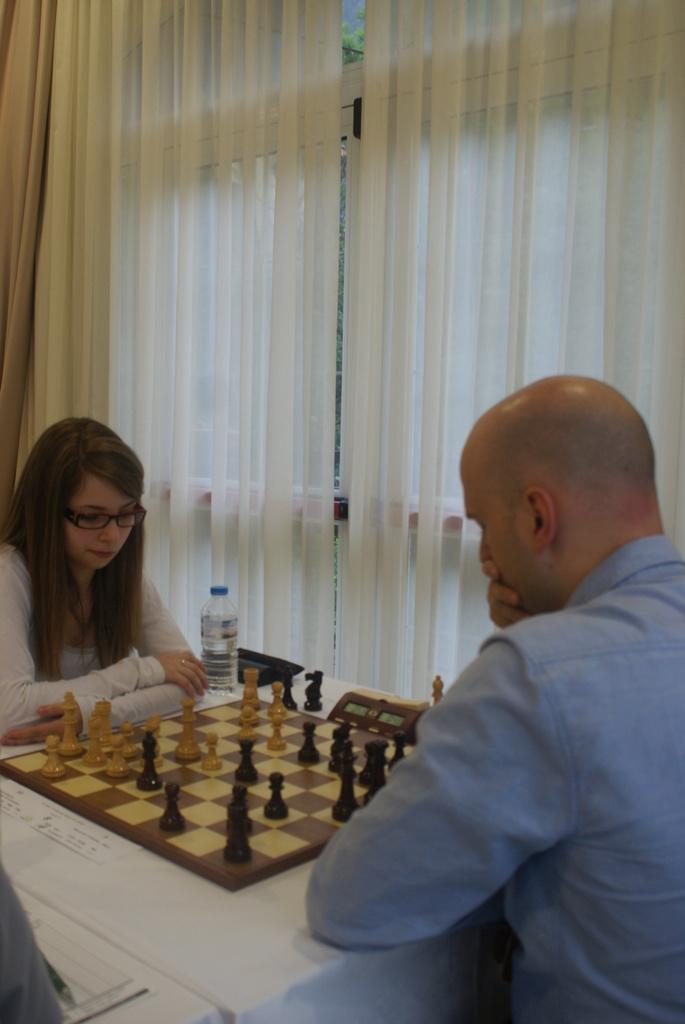Sem Máscara: (461, 454, 530, 596), (58, 472, 132, 565)
